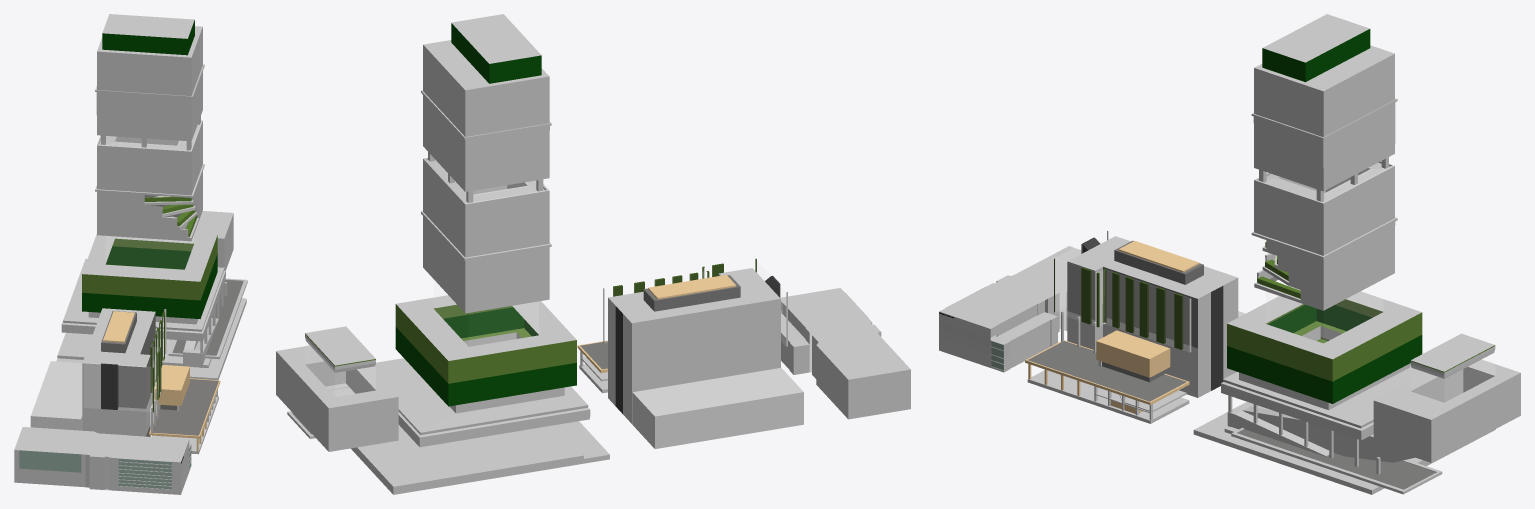
File: med-solid-v3.glb
3 renders of one model, left to right at view 1: azimuth 30°, elevation 25°; view 2: azimuth 150°, elevation 25°; view 3: azimuth 270°, elevation 25°, orthographic. The views are drawn at different scales.
Visible parts, largest first — view 1: Tower, Mid, Cube; view 2: Tower, Mid, Cube; view 3: Tower, Mid, Cube.
Boxes of the visible parts, left/top/right/bottom form: Tower: left=56, top=14, right=247, bottom=380; Mid: left=30, top=308, right=220, bottom=454; Cube: left=14, top=427, right=191, bottom=494; Tower: left=276, top=14, right=609, bottom=494; Mid: left=577, top=258, right=803, bottom=448; Cube: left=780, top=288, right=910, bottom=419; Tower: left=1193, top=14, right=1520, bottom=494; Mid: left=1025, top=231, right=1245, bottom=423; Cube: left=939, top=246, right=1081, bottom=372.
Size of the model in its own units: 178 by 147 by 201.
